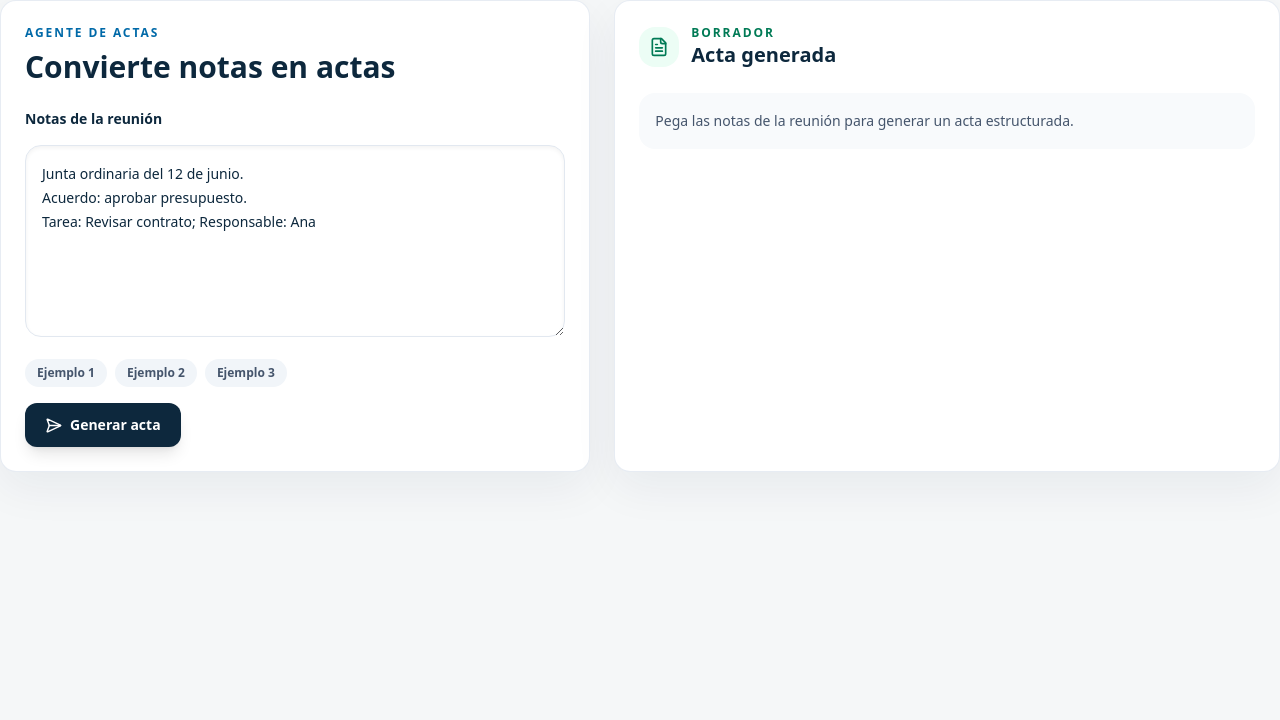
Scenario: MeetingMinutesPanel › muestra estados vacios cuando no detecta acuerdos ni tareas
Click the button "Generar acta". click: (103, 425)
box: [25,403,181,447]
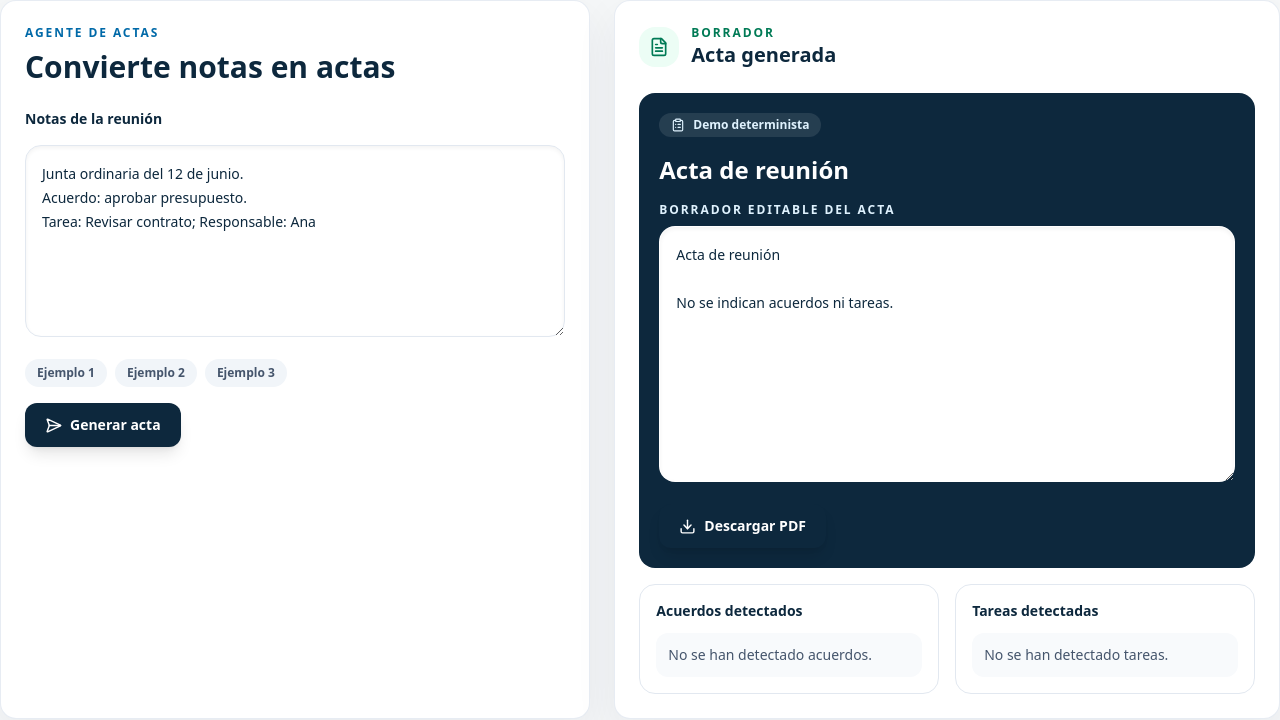
Check: the text "No se han detectado acuerdos." is shown, box [656,633,922,677]
Check: the text "No se han detectado tareas." is shown, box [972,633,1238,677]
